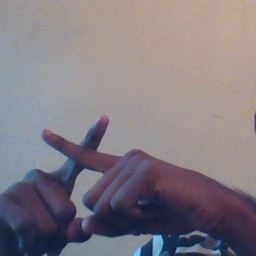X: (23, 106, 137, 231)
